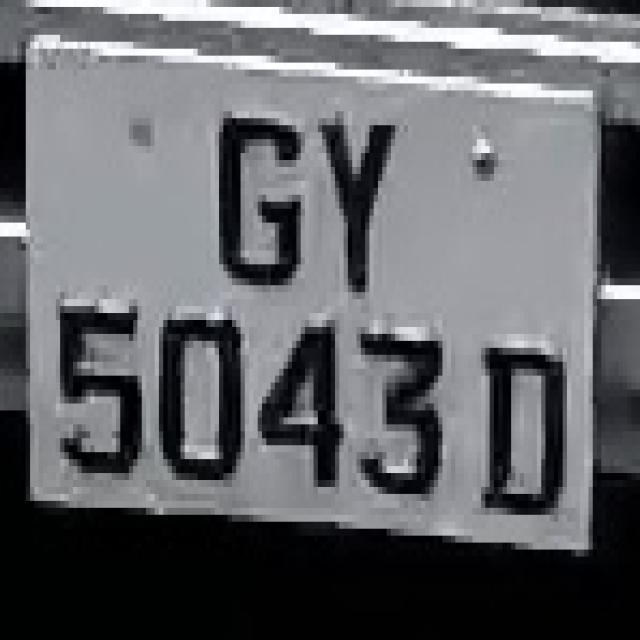0: (150, 264, 245, 508)
3: (343, 292, 442, 515)
4: (254, 292, 344, 501)
5: (47, 278, 146, 487)
D: (472, 313, 576, 522)
G: (206, 104, 305, 306)
Y: (305, 98, 408, 292)
